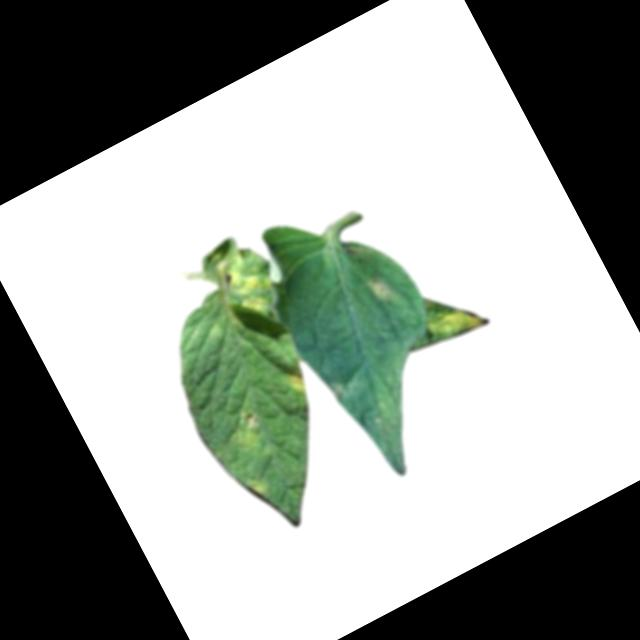Leaf_Mold: (203, 233, 286, 330), (414, 278, 489, 350), (275, 356, 316, 399), (363, 276, 397, 313), (241, 467, 274, 502)
